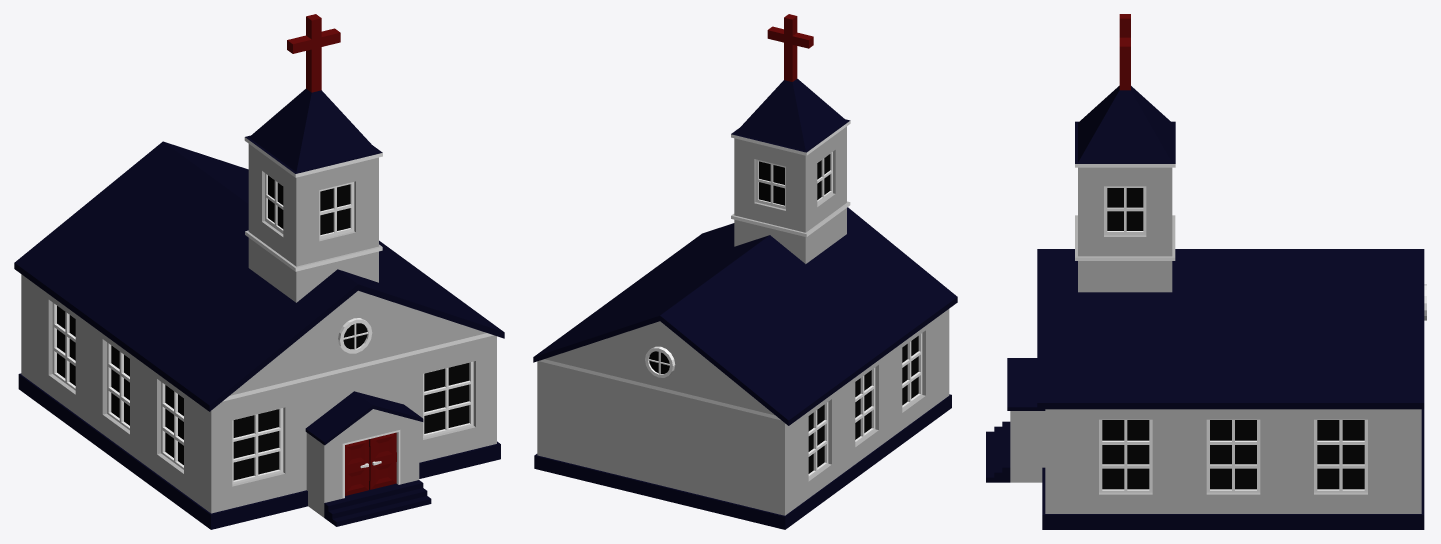
Rendered from church.fbx.
The picture shows the model from 3 angles, left to right: view 1: azimuth 30°, elevation 25°; view 2: azimuth 150°, elevation 25°; view 3: azimuth 270°, elevation 25°; orthographic projection. The views are drawn at different scales.
Visible parts, largest first — view 1: Cube; view 2: Cube; view 3: Cube.
Boxes of the visible parts, x1=… form: Cube: x1=14, y1=14, x2=504, y2=529; Cube: x1=533, y1=14, x2=957, y2=529; Cube: x1=986, y1=14, x2=1426, y2=529.
Size of what is drawn, in the model's own units: 12.44 by 18.02 by 16.24.
